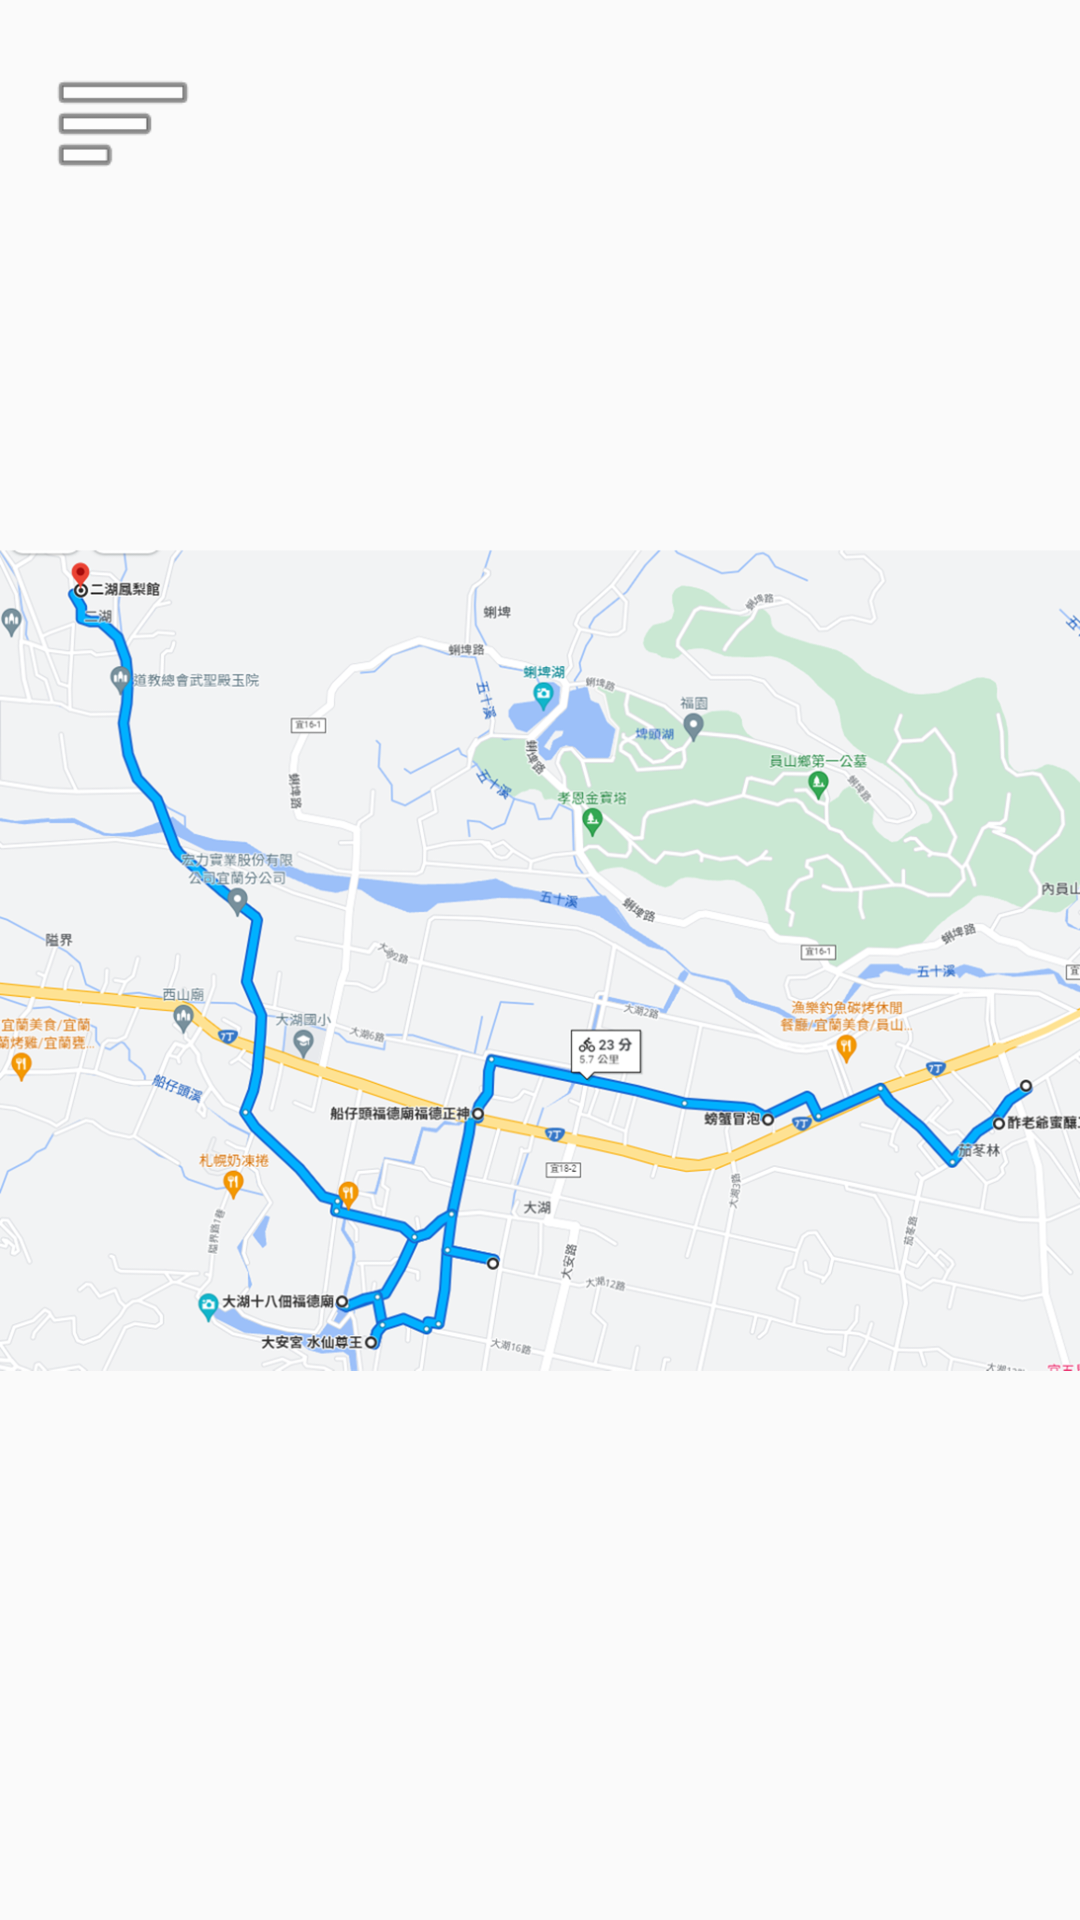

Icons on this 1080 x 1920 Android screen, each with its box as BBox(x1, y1, x2, y2):
sort by size: BBox(58, 82, 188, 166)
